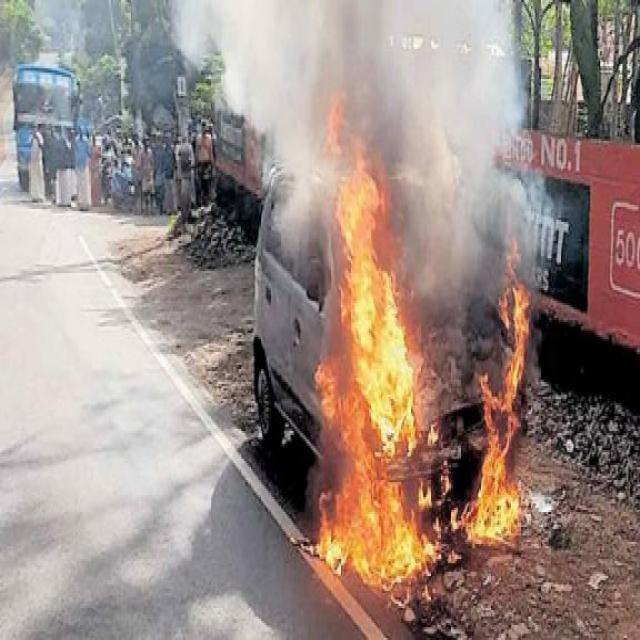accident: (254, 149, 529, 587)
